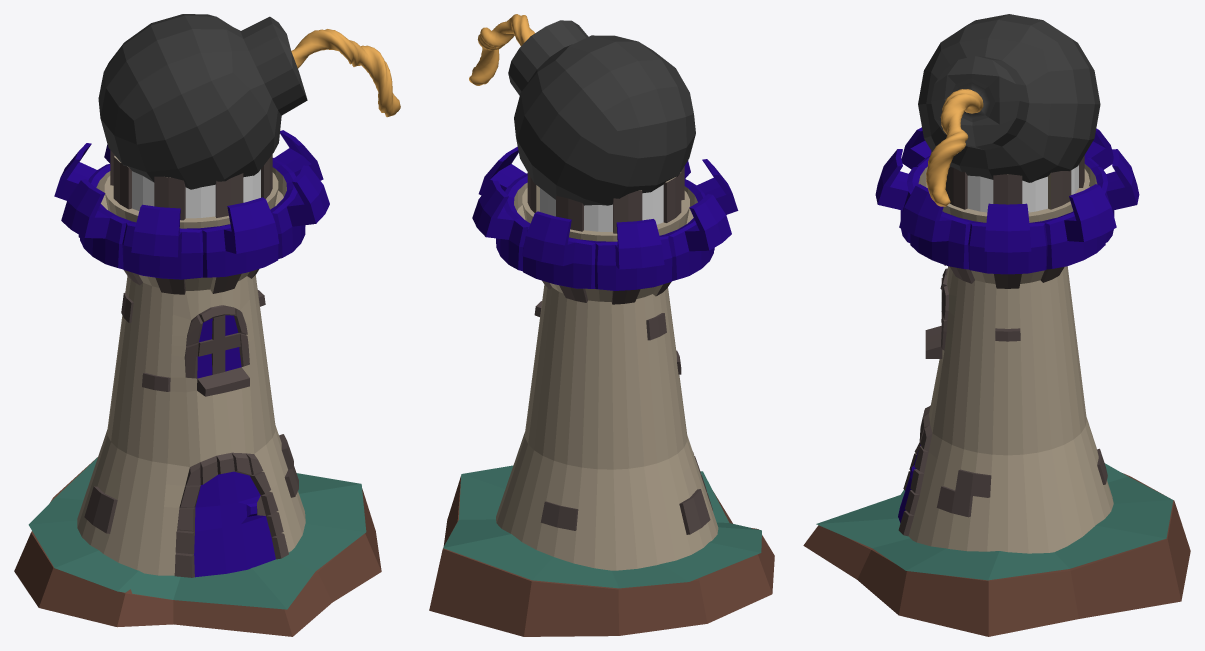
The model's file is bomba_kule_su.fbx.
3 views of the same model, side by side, from view 1: azimuth 30°, elevation 25°; view 2: azimuth 150°, elevation 25°; view 3: azimuth 270°, elevation 25° (orthographic). The views are drawn at different scales.
Parts seen in each view (by area): view 1: Cylinder.012, cımen.011, Circle.011; view 2: Cylinder.012, Circle.011, cımen.011; view 3: Cylinder.012, Circle.011, cımen.011.
Part boxes in pixels (<box>): Cylinder.012: <box>54,14,400,577</box>; cımen.011: <box>28,457,366,609</box>; Circle.011: <box>14,457,381,636</box>; Cylinder.012: <box>469,14,738,570</box>; Circle.011: <box>429,476,774,636</box>; cımen.011: <box>443,465,761,588</box>; Cylinder.012: <box>875,14,1139,553</box>; Circle.011: <box>803,473,1190,636</box>; cımen.011: <box>816,463,1173,580</box>.
Bounding box in the file's own units: 488 × 754 × 496.
